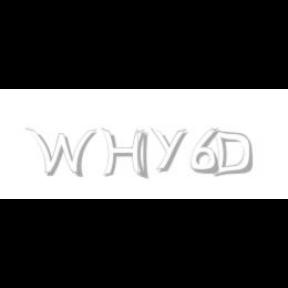6: (190, 128, 220, 176)
D: (210, 128, 254, 178)
H: (101, 128, 147, 180)
I: (136, 128, 150, 180)
W: (25, 128, 97, 178)
y: (151, 128, 191, 172)
